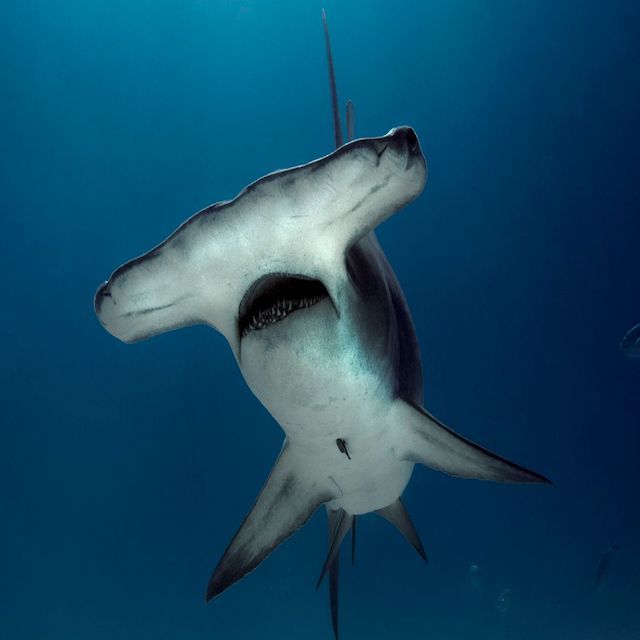hammerhead: (87, 129, 558, 602)
